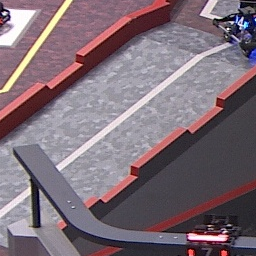Blue: (235, 13, 249, 30)
Red: (185, 243, 229, 256)
Robot: (210, 1, 256, 60), (182, 214, 241, 256)
